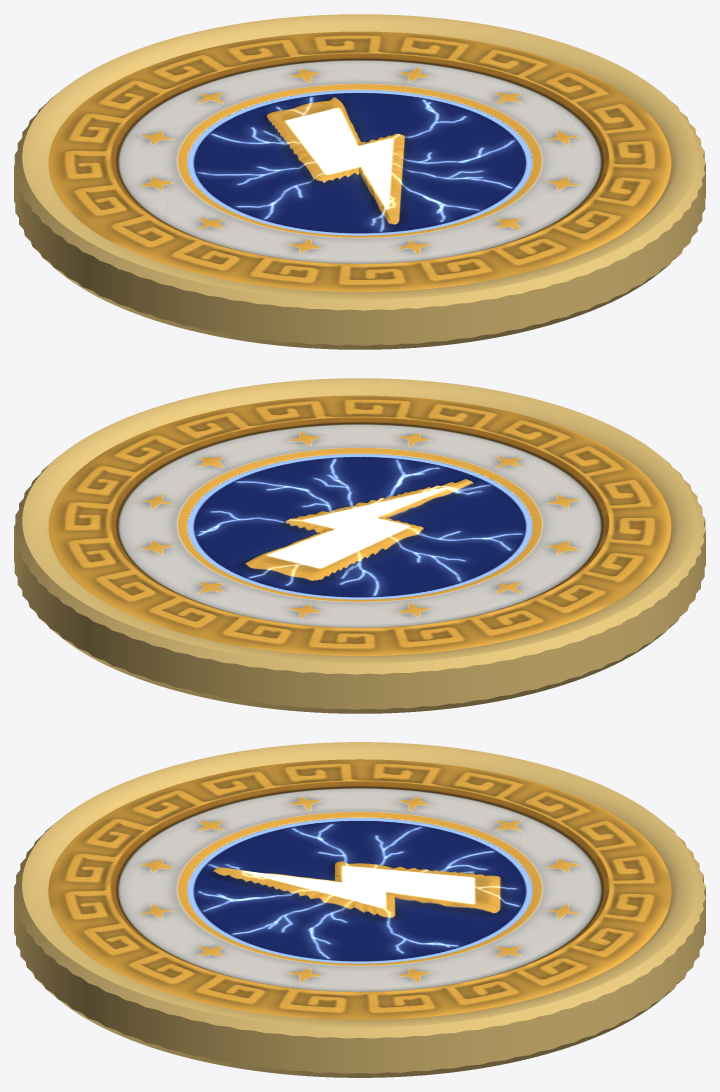
The model's file is coin_celestial.glb.
3 renders of one model, top to bottom at view 1: azimuth 30°, elevation 25°; view 2: azimuth 150°, elevation 25°; view 3: azimuth 270°, elevation 25°, orthographic.
Visible parts, largest first — view 1: coin_celestial; view 2: coin_celestial; view 3: coin_celestial.
Boxes of the visible parts, x1,y1,x2,y2 form: coin_celestial: [14, 14, 705, 349]; coin_celestial: [14, 378, 705, 713]; coin_celestial: [14, 742, 705, 1077].
Bounding box in the file's own units: 0.9992 × 0.08 × 0.9992.
Materials: 3 (2 with a texture image).
